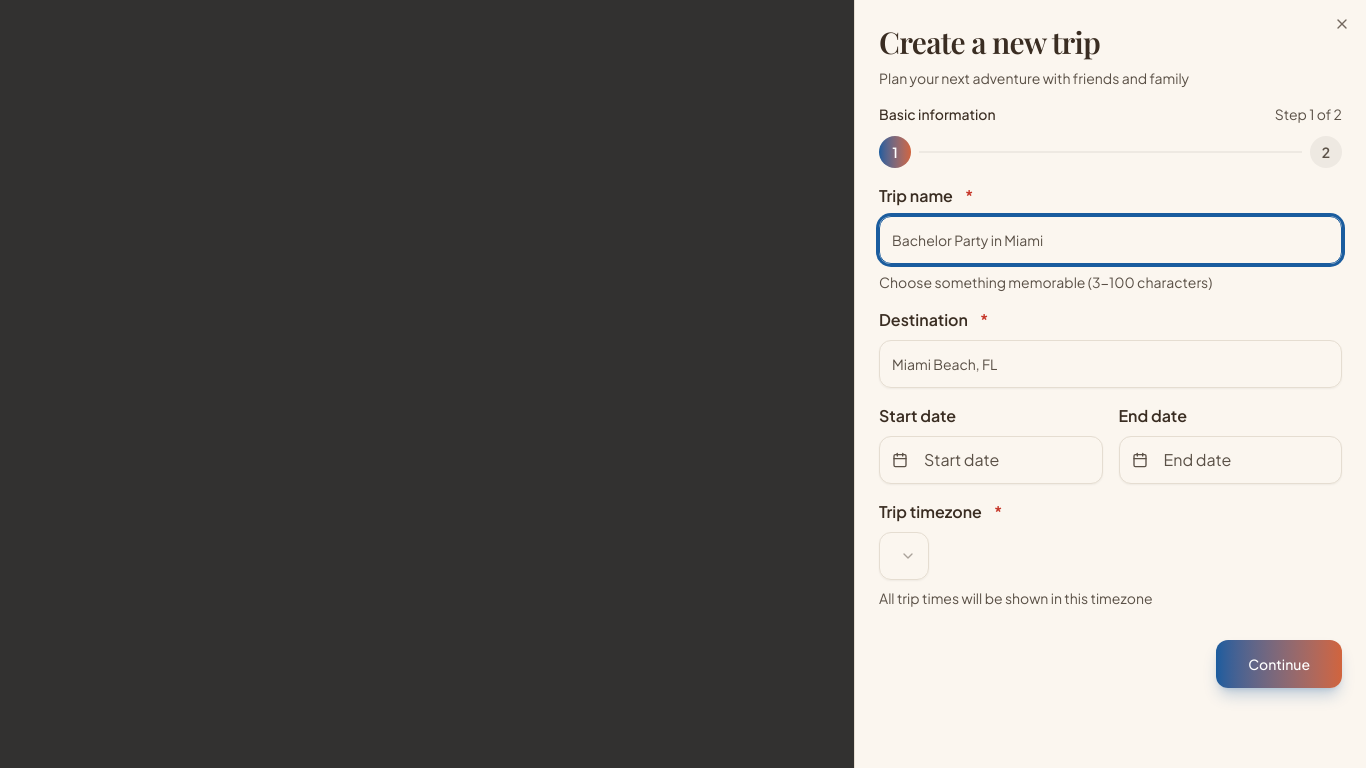
Test: CreateTripDialog › Field validation - Destination › shows error when destination is empty
# Fill name but leave destination empty
Type "Test Trip" into the field labelled "Trip name *". click: point(1110, 240)
box: [879,216,1342,264]
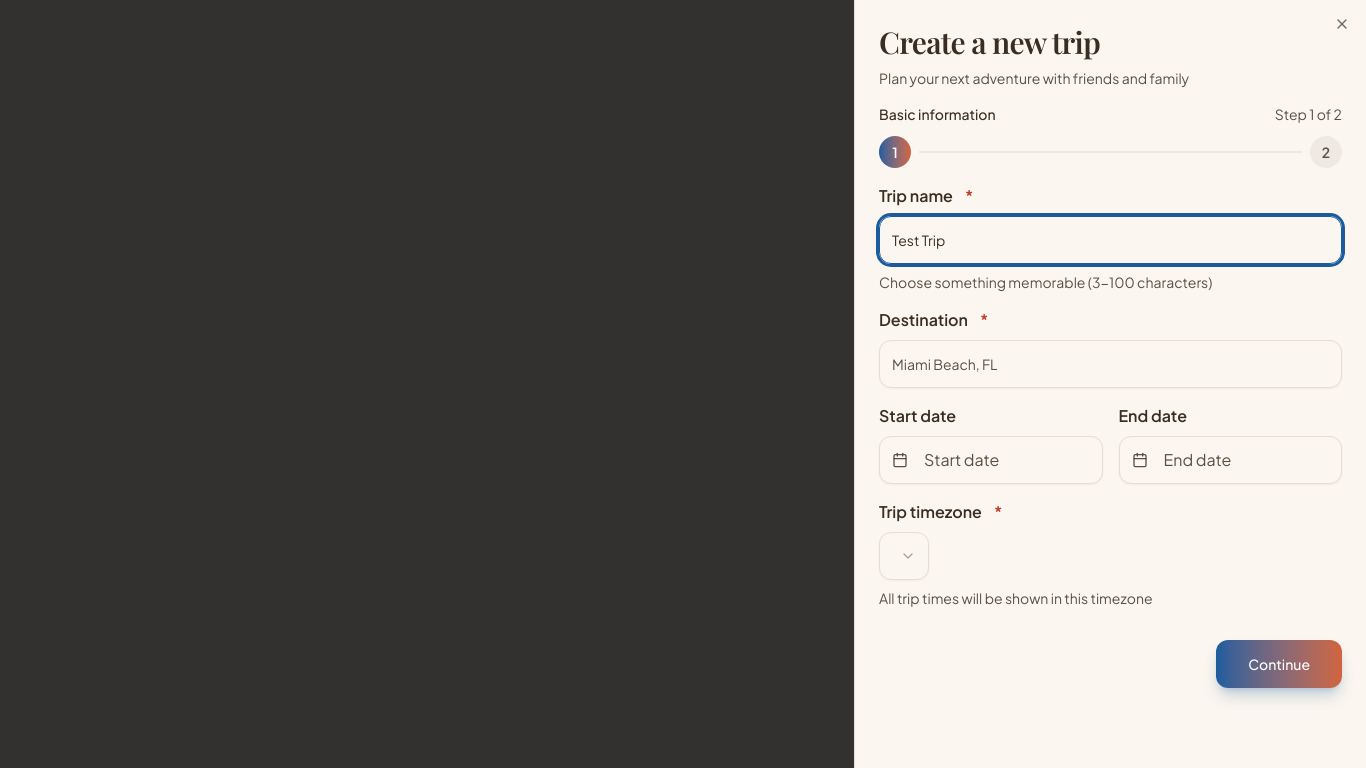
Click the button "Continue". click: point(1279, 664)
box: [1216,640,1342,688]
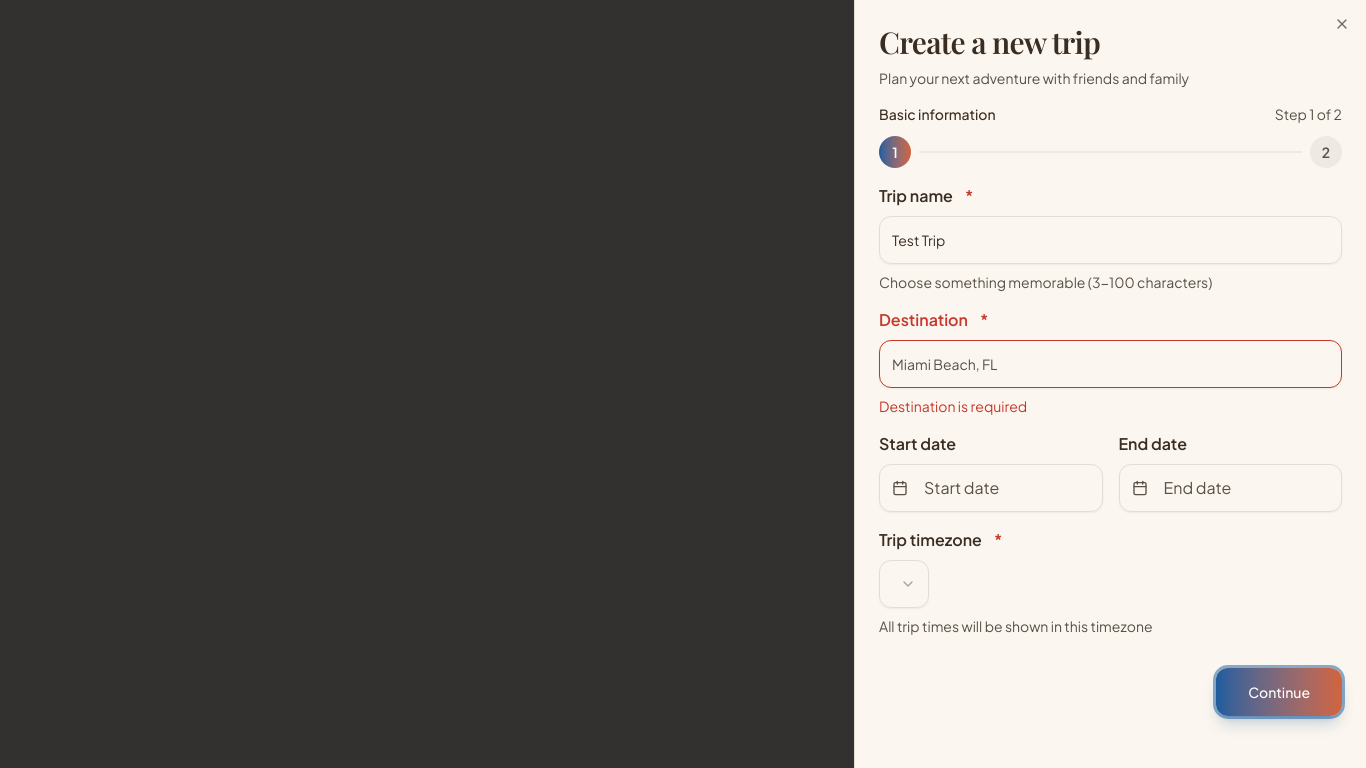
expect the text "Destination is required" is shown: met, box [879,397,1027,415]
